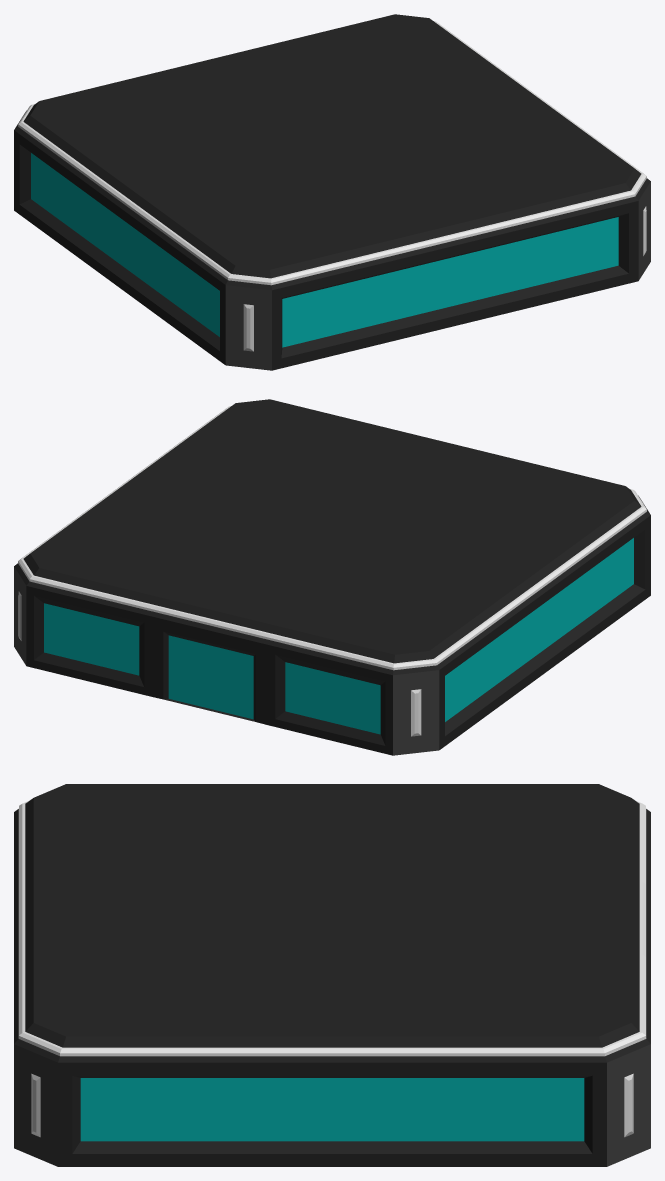
The model's file is GroundBasic.fbx.
3 renders of one model, top to bottom at view 1: azimuth 30°, elevation 25°; view 2: azimuth 150°, elevation 25°; view 3: azimuth 270°, elevation 25°, orthographic. The views are drawn at different scales.
Visible parts, largest first — view 1: BasicGroundFloor; view 2: BasicGroundFloor; view 3: BasicGroundFloor.
Boxes of the visible parts, x1=… form: BasicGroundFloor: x1=14, y1=14, x2=650, y2=370; BasicGroundFloor: x1=14, y1=399, x2=650, y2=755; BasicGroundFloor: x1=14, y1=784, x2=650, y2=1166.
Size of the model in its own units: 140 by 29.63 by 140.
